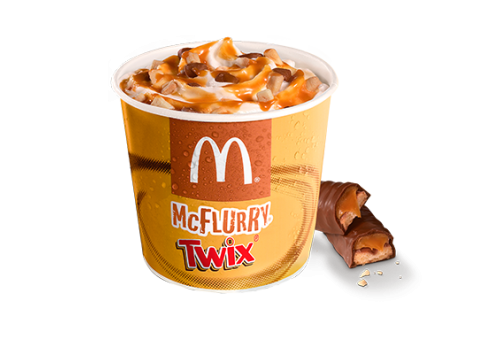mcdonalds: (183, 131, 256, 190)
